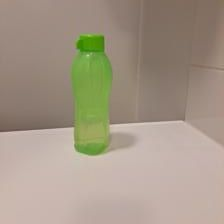bottle: (71, 31, 116, 156)
